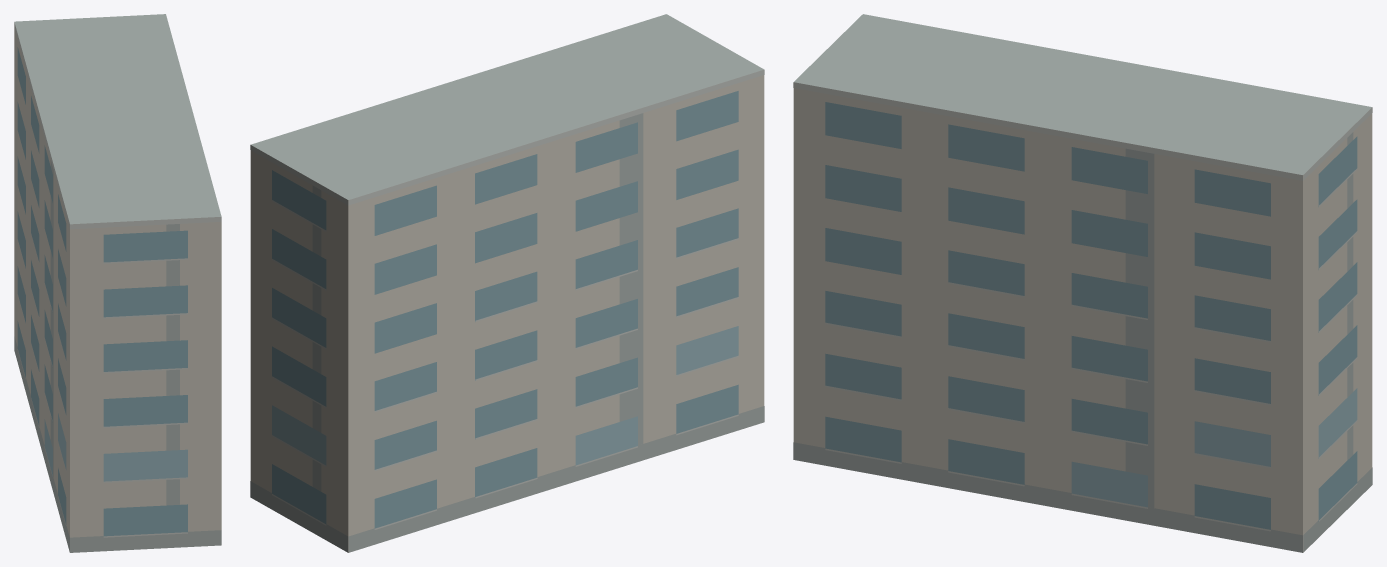
File: survey-upis-32562918.glb
3 views of the same model, side by side, from view 1: azimuth 30°, elevation 25°; view 2: azimuth 150°, elevation 25°; view 3: azimuth 270°, elevation 25° (orthographic). The views are drawn at different scales.
Visible parts, largest first — view 1: survey-upis-32562918.tmp; view 2: survey-upis-32562918.tmp; view 3: survey-upis-32562918.tmp.
Boxes of the visible parts, bbox=[...] form: survey-upis-32562918.tmp: bbox=[14, 14, 221, 552]; survey-upis-32562918.tmp: bbox=[250, 14, 764, 552]; survey-upis-32562918.tmp: bbox=[793, 14, 1372, 552].
Bounding box in the file's own units: 14.56 × 15.9 × 22.1.
